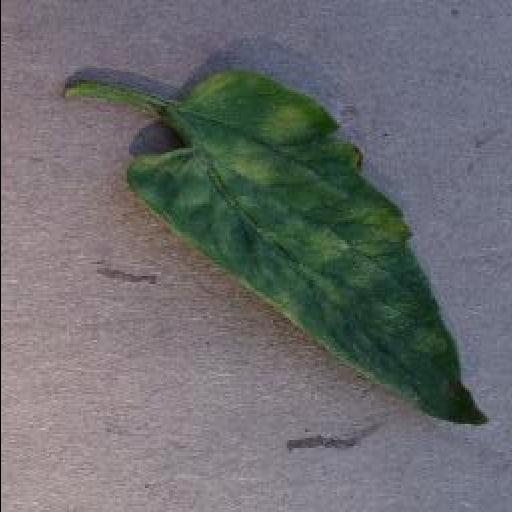disease_tomato: (130, 72, 488, 426)
